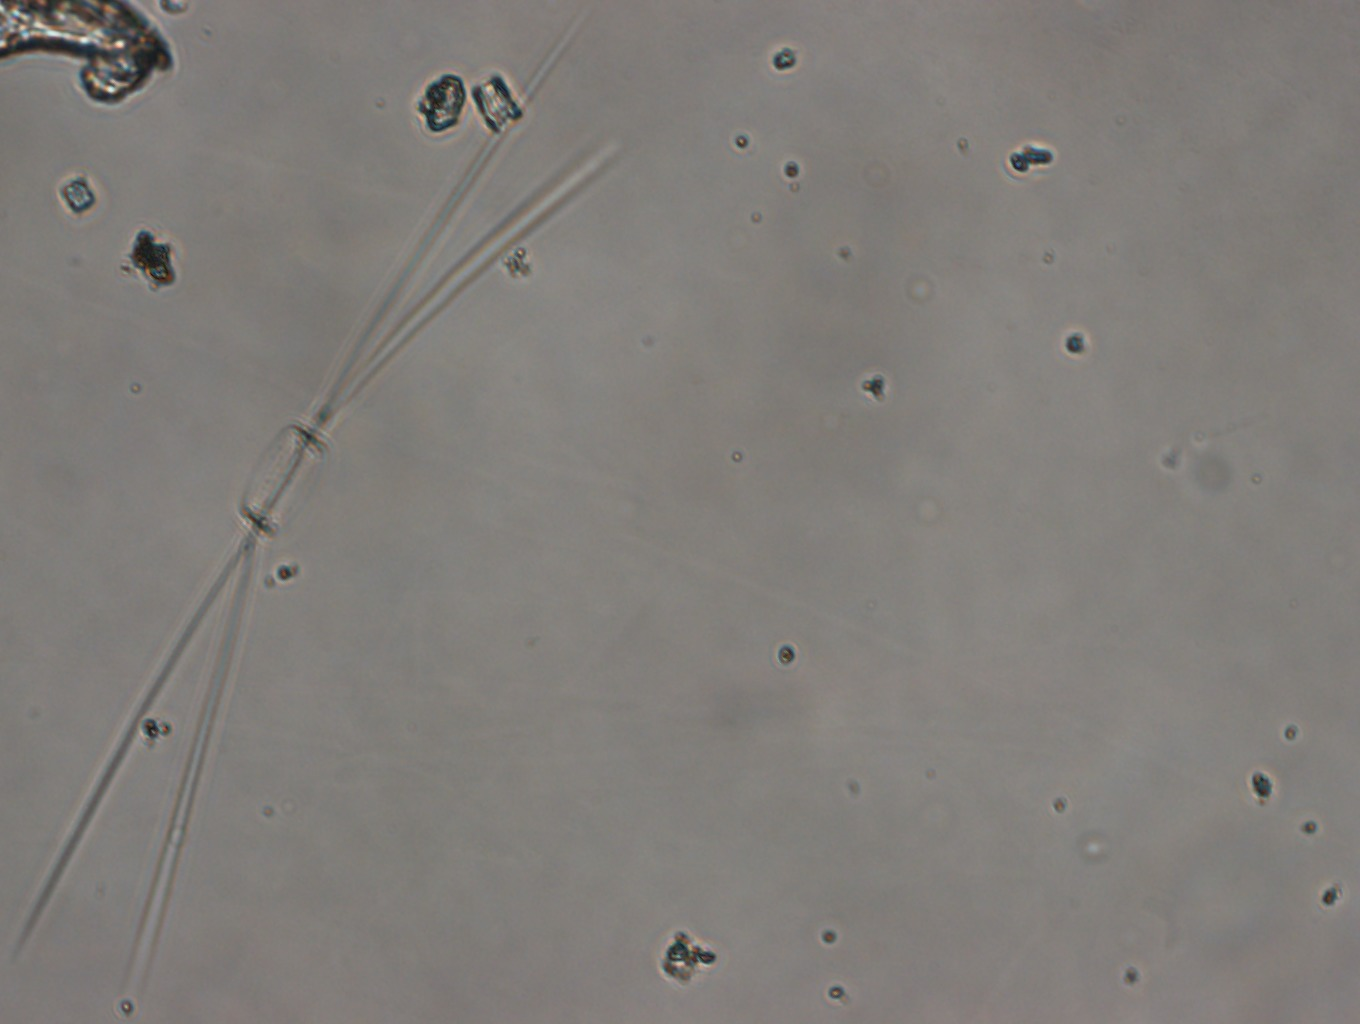chaetoceros: (1, 49, 590, 977)
